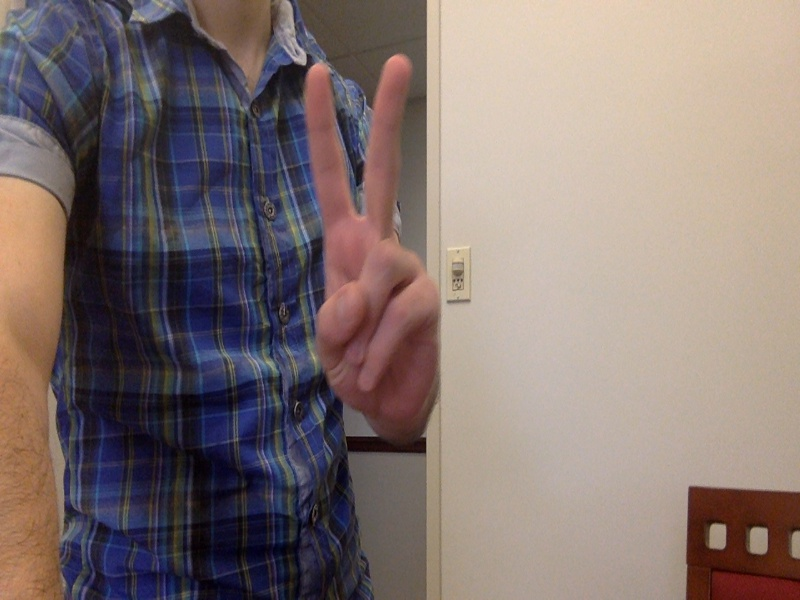2-hand: (300, 50, 442, 434)
